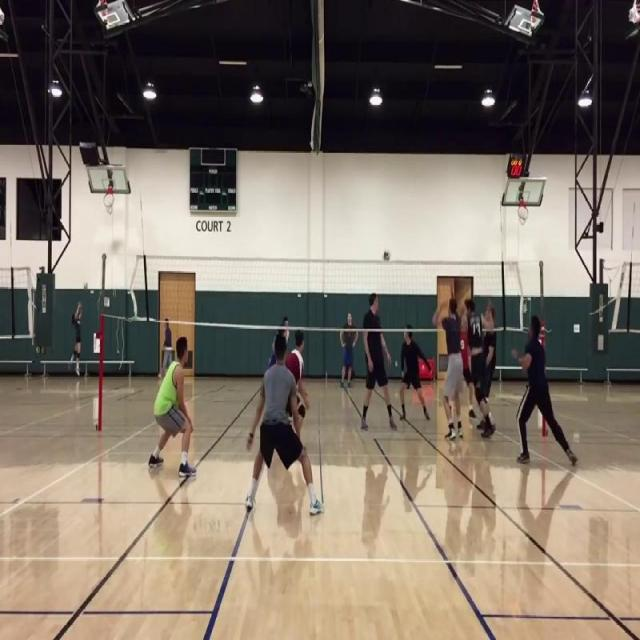volleyball: (383, 249, 389, 261)
